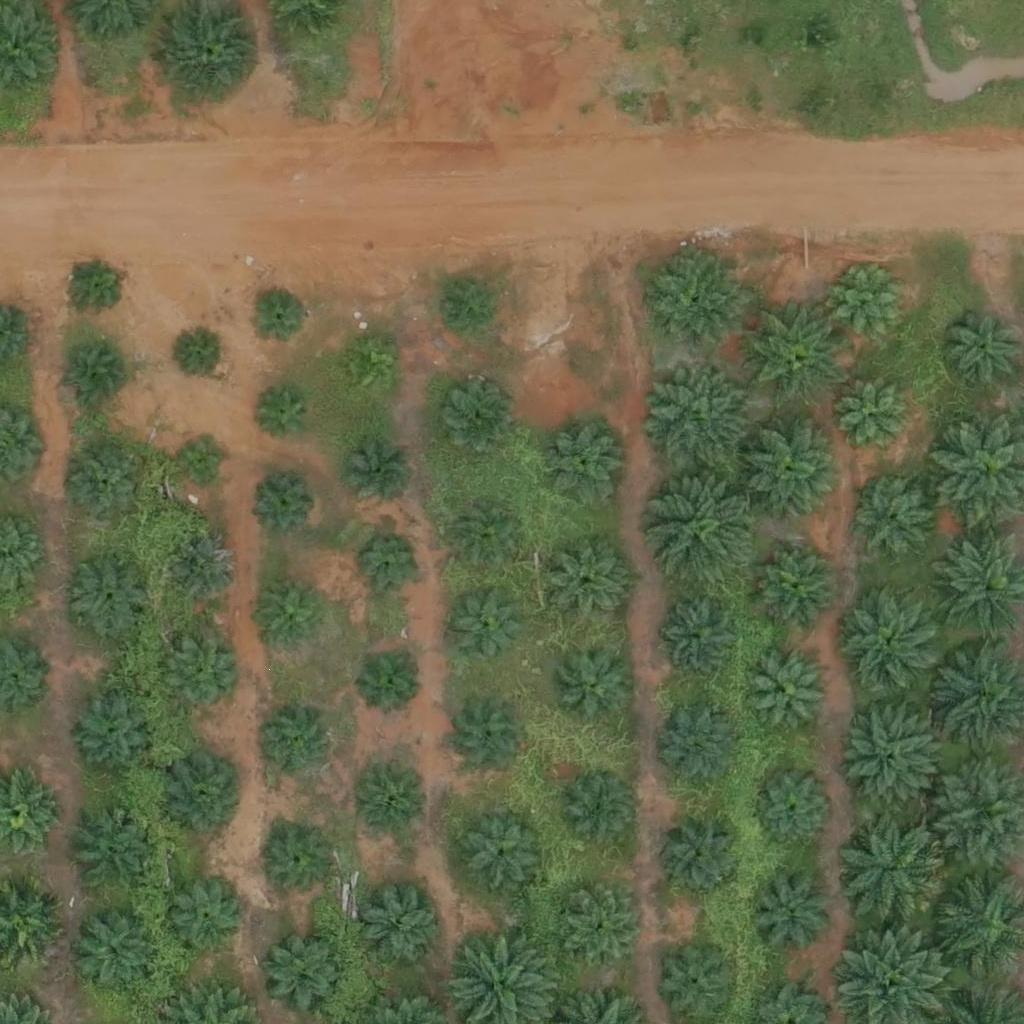Kelapa_Sawit: (646, 364, 759, 478), (652, 471, 765, 585), (835, 815, 947, 929), (647, 251, 747, 352), (745, 302, 845, 403), (745, 422, 845, 522), (842, 589, 942, 689), (845, 703, 945, 803), (462, 811, 550, 900), (66, 551, 154, 639), (161, 751, 249, 839), (70, 691, 158, 779), (558, 883, 646, 971), (258, 928, 346, 1016), (353, 881, 440, 970), (830, 260, 917, 348), (747, 872, 834, 960), (753, 766, 840, 854), (662, 811, 749, 899), (70, 810, 157, 898), (72, 908, 159, 996), (453, 494, 528, 570), (437, 384, 512, 460), (551, 545, 626, 621), (546, 425, 621, 501), (666, 598, 741, 674), (664, 712, 739, 788), (758, 551, 833, 627), (753, 655, 828, 731), (860, 484, 935, 560), (69, 450, 144, 525), (835, 377, 910, 452), (263, 826, 338, 901), (251, 710, 326, 785), (452, 701, 527, 776), (557, 773, 632, 848), (559, 645, 634, 720), (453, 585, 528, 660), (161, 636, 236, 711), (168, 535, 243, 610), (340, 440, 415, 515), (354, 530, 429, 605), (352, 644, 427, 719), (355, 768, 430, 843), (659, 947, 734, 1022), (169, 884, 244, 959), (63, 254, 126, 317), (64, 343, 127, 406), (261, 583, 324, 646), (338, 338, 401, 401), (430, 276, 493, 339), (248, 285, 310, 348), (252, 385, 314, 448), (252, 472, 314, 535), (178, 329, 228, 380), (177, 435, 227, 486)
